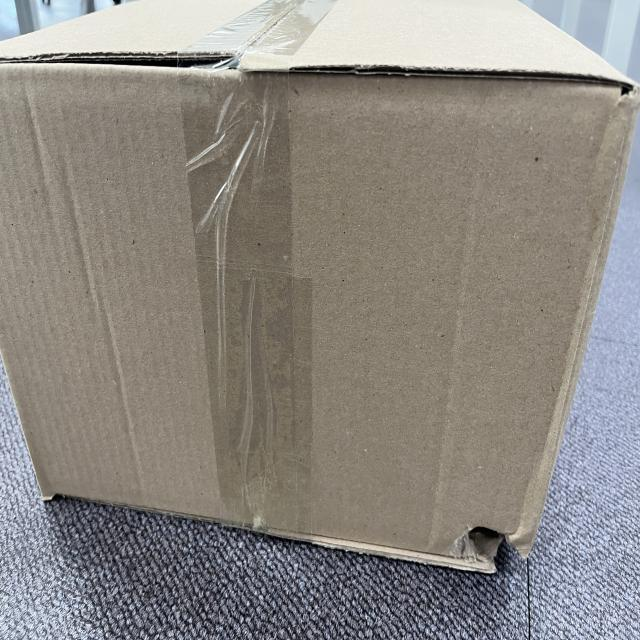hole: (454, 508, 532, 578)
